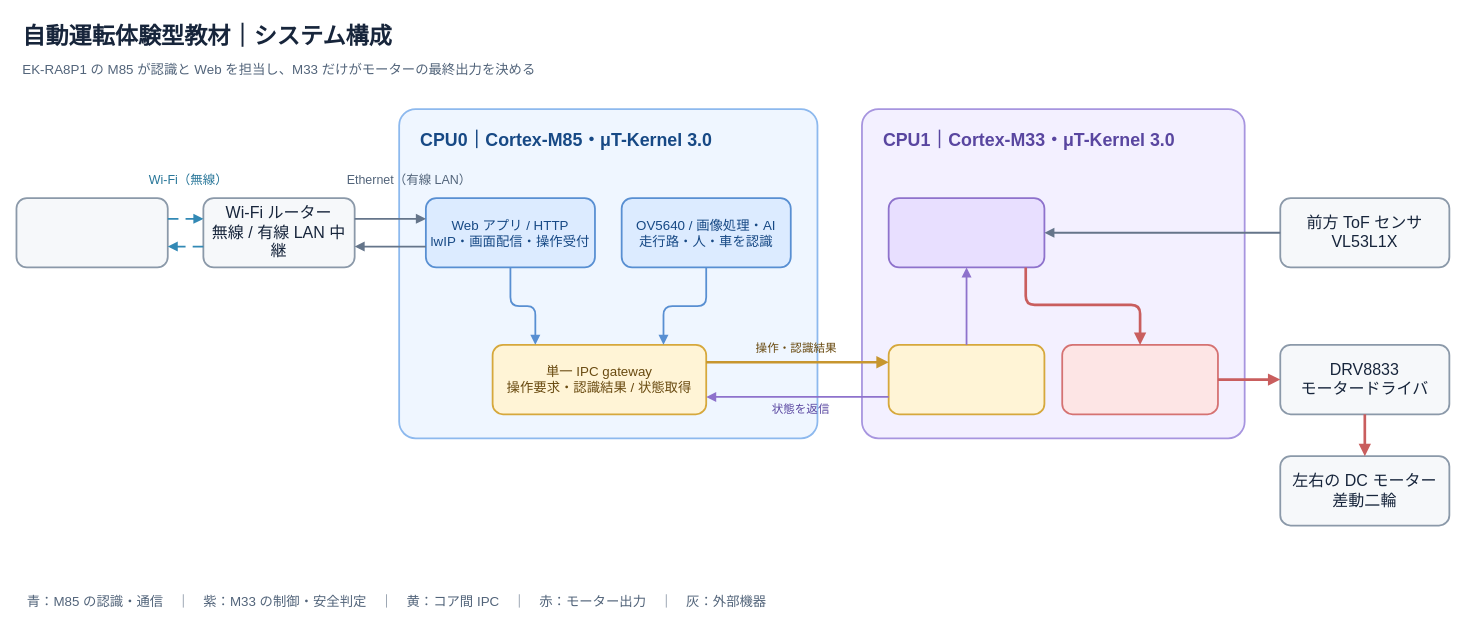
Image size: 1465x631. Some labels were removed from this diagram. The centre of each missing label's shape, as x and y in pixels:
"M33 側 IPC 共有 RAM / HSEM" belongs at point 966,379.
"スマートフォン / PC ブラウザ" belongs at point 91,232.
"モーター出力 M33 の GPIO / PWM" belongs at point 1139,379.
"車両状態の正本 ToF・鮮度・安全判定" belongs at point 966,232.
